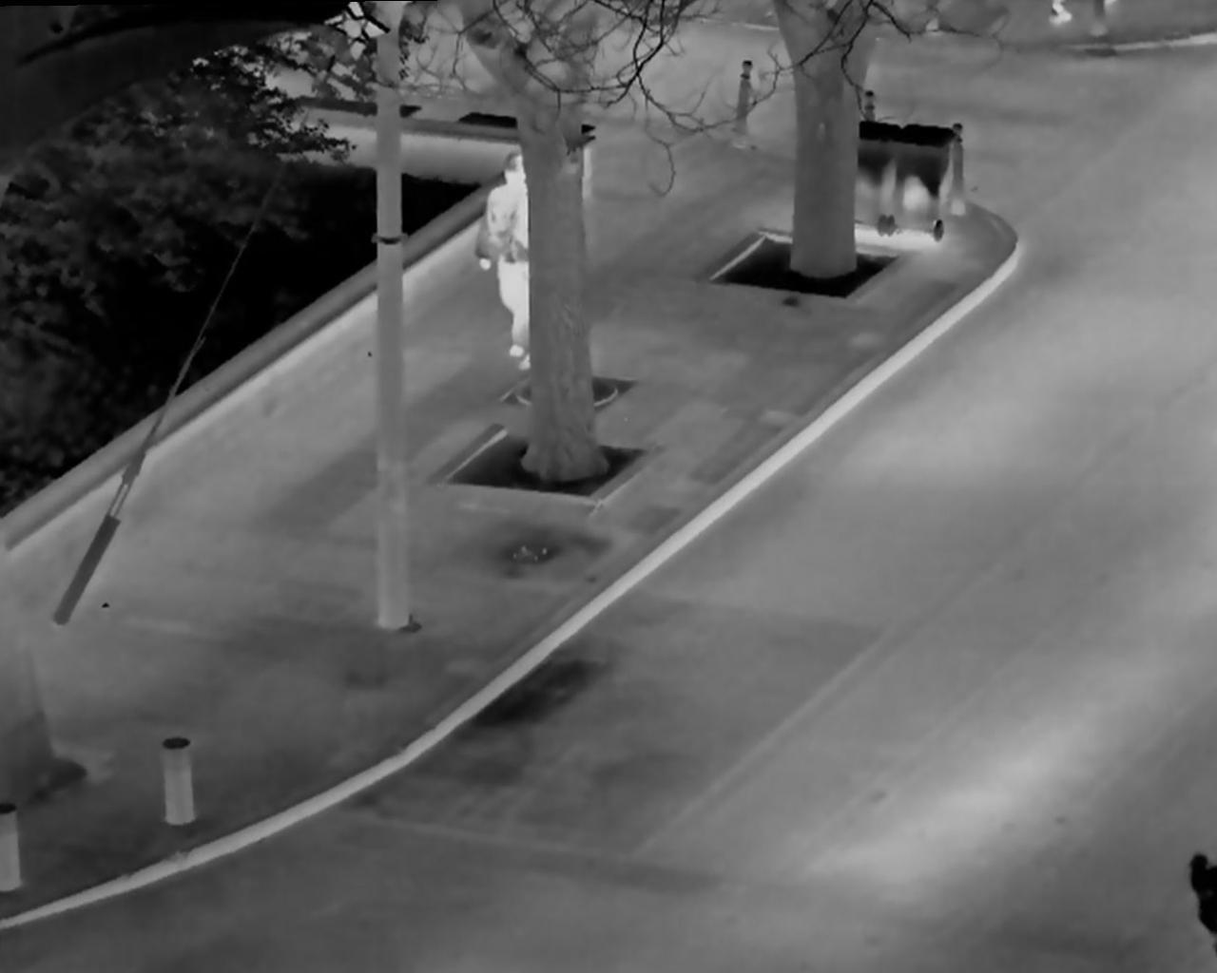person: (454, 153, 548, 370)
